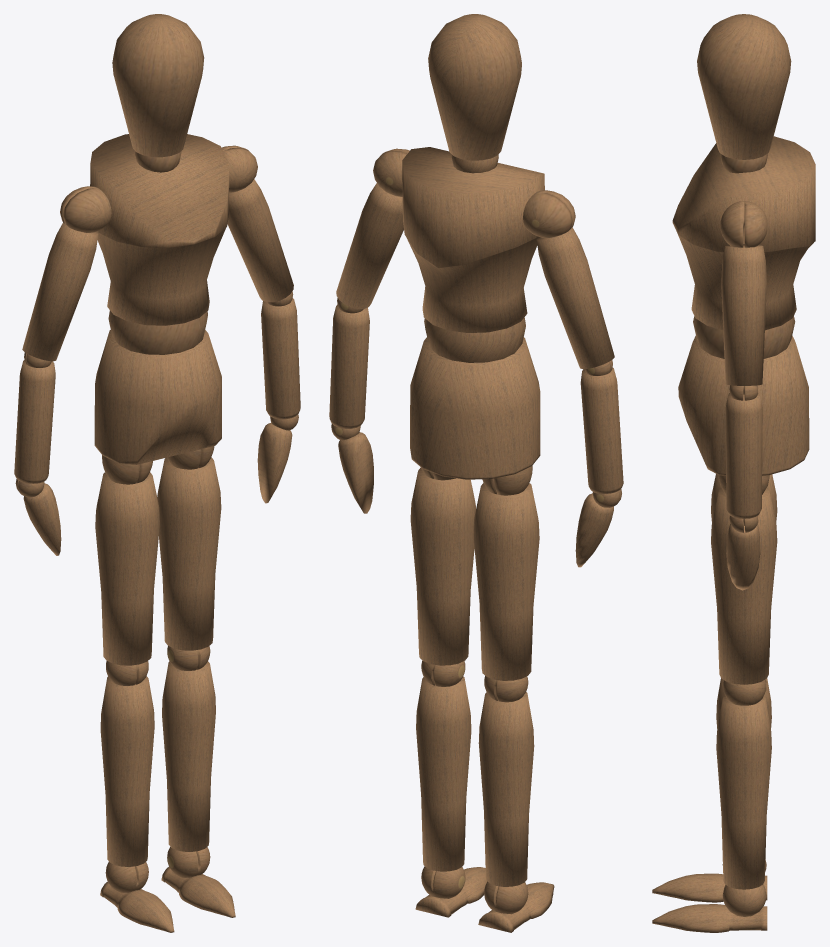
File: woodMannequin.obj
3 views of the same model, side by side, from view 1: azimuth 30°, elevation 25°; view 2: azimuth 150°, elevation 25°; view 3: azimuth 270°, elevation 25° (orthographic). The views are drawn at different scales.
Parts seen in each view (by area): view 1: Man-Waist-Low.003; view 2: Man-Waist-Low.003; view 3: Man-Waist-Low.003.
Boxes of the visible parts, box(x1,y1,x2,y2) form: Man-Waist-Low.003: box(14, 14, 300, 932); Man-Waist-Low.003: box(329, 14, 623, 932); Man-Waist-Low.003: box(652, 14, 815, 932).
Bounding box in the file's own units: 0.0453 × 0.1338 × 0.0222.
Materials: 1 (1 with a texture image).
